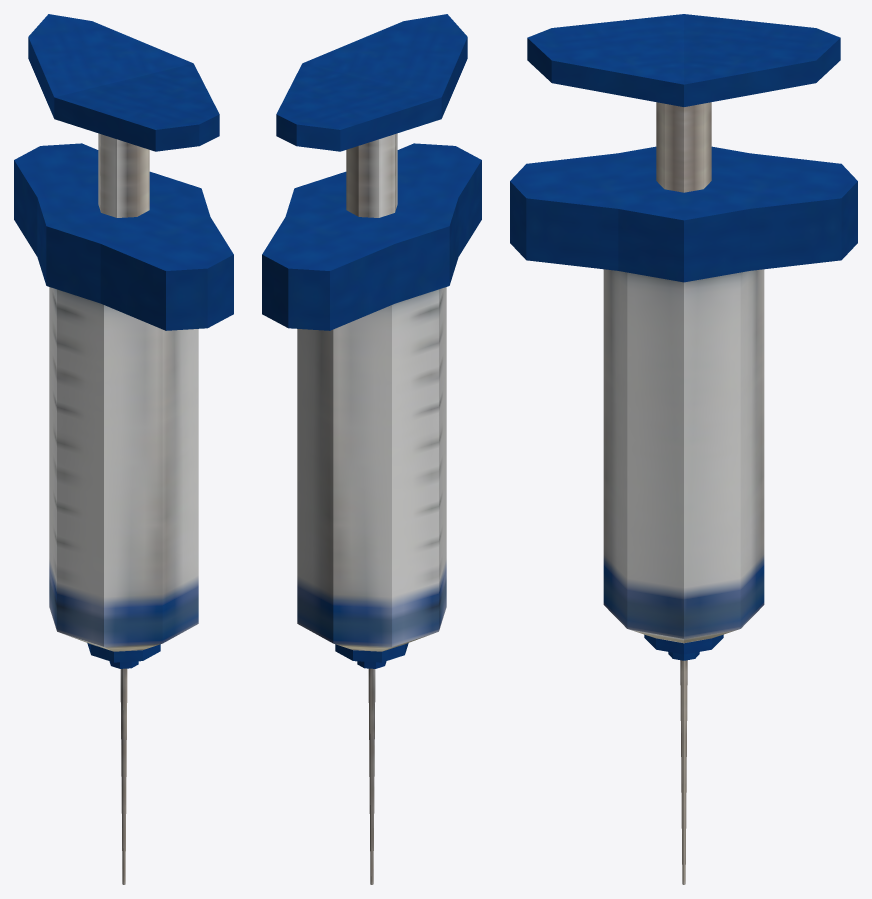
File: Syringe.fbx
3 renders of one model, left to right at view 1: azimuth 30°, elevation 25°; view 2: azimuth 150°, elevation 25°; view 3: azimuth 270°, elevation 25°, orthographic. The views are drawn at different scales.
Visible parts, largest first — view 1: Cylinder; view 2: Cylinder; view 3: Cylinder.
Part boxes in pixels (x1,y1,x2,y2): Cylinder: (14, 14, 233, 884); Cylinder: (262, 14, 481, 884); Cylinder: (510, 14, 857, 884).
Bounding box in the file's own units: 0.5846 × 2.93 × 1.09.
Materials: 1 (1 with a texture image).
